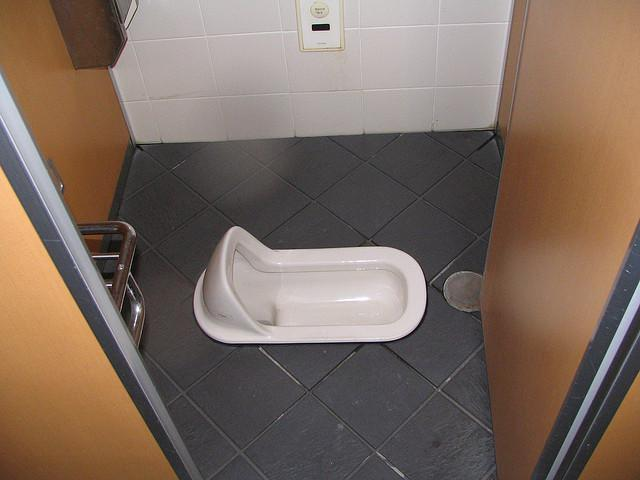Sanitario: (192, 226, 429, 341)
